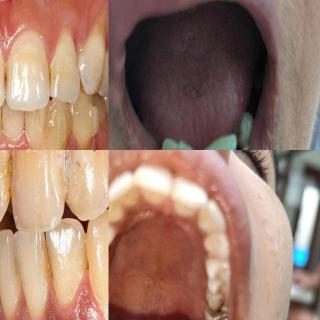Gum Swelling: (37, 274, 85, 320), (0, 21, 52, 62), (0, 131, 34, 150)
cavities: (210, 301, 233, 318)
maligned: (14, 231, 47, 319), (44, 98, 70, 150), (0, 232, 15, 314), (0, 150, 15, 228), (98, 44, 108, 102), (229, 134, 255, 150)
plaque: (15, 150, 62, 218), (64, 150, 108, 215), (51, 242, 87, 312), (92, 248, 108, 320), (0, 150, 15, 214)
